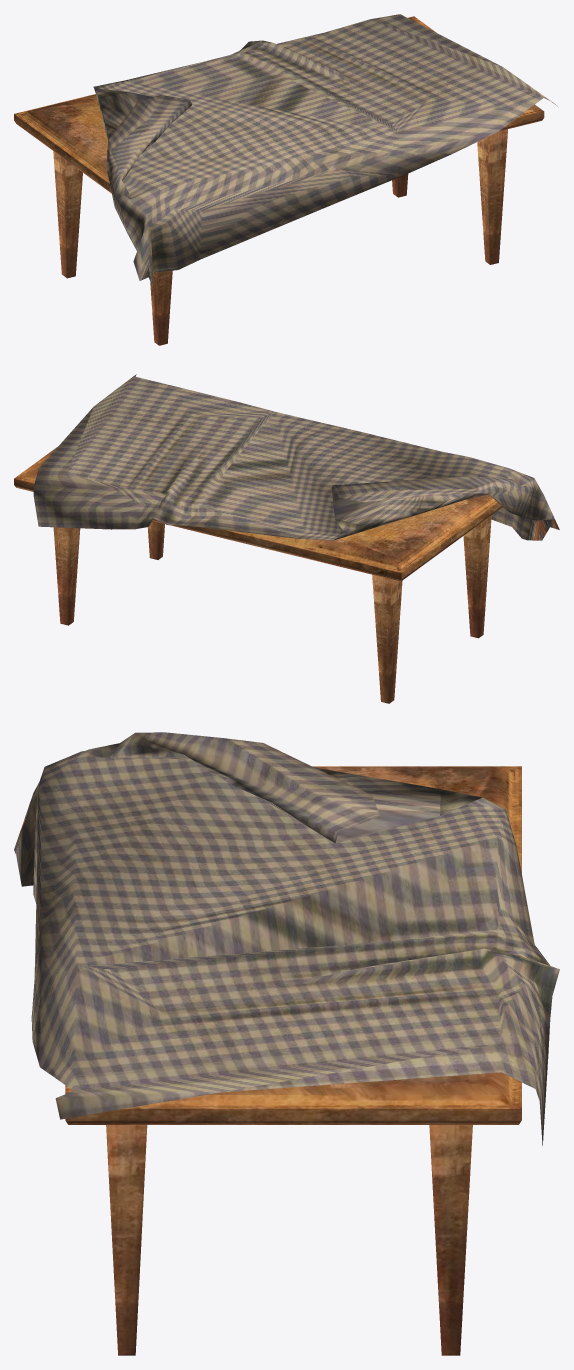
The model's file is dining-table.glb.
3 views of the same model, one above another, from view 1: azimuth 30°, elevation 25°; view 2: azimuth 150°, elevation 25°; view 3: azimuth 270°, elevation 25° (orthographic). The views are drawn at different scales.
Visible parts, largest first — view 1: dining_table; view 2: dining_table; view 3: dining_table.
Boxes of the visible parts, <box> form: dining_table: <box>14,14,557,345</box>; dining_table: <box>14,374,559,703</box>; dining_table: <box>14,732,559,1355</box>.
Bounding box in the file's own units: 2.22 × 0.8769 × 1.38.
Materials: 1 (1 with a texture image).
